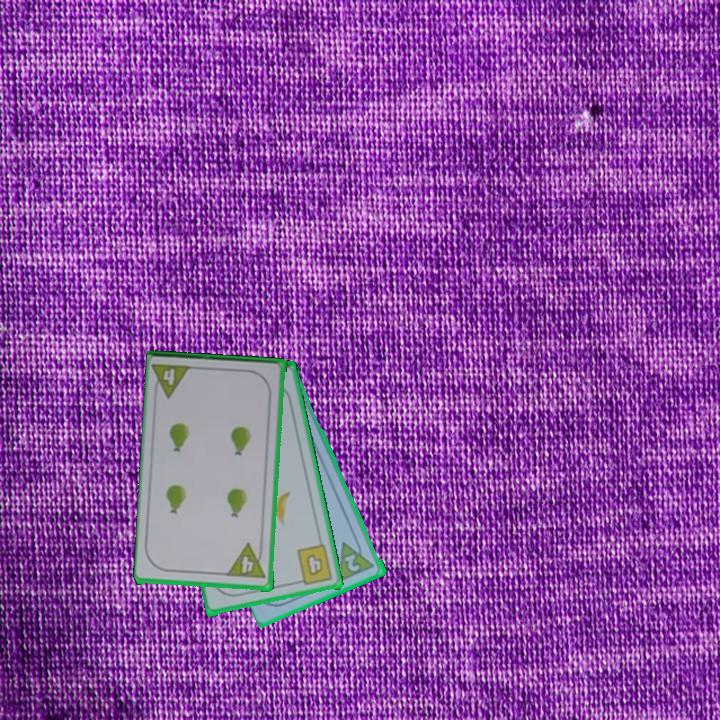2p: (341, 551, 363, 575)
4b: (292, 541, 336, 588)
4p: (225, 541, 258, 577), (160, 365, 178, 388)
